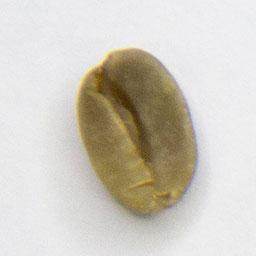premium: (73, 43, 203, 219)
